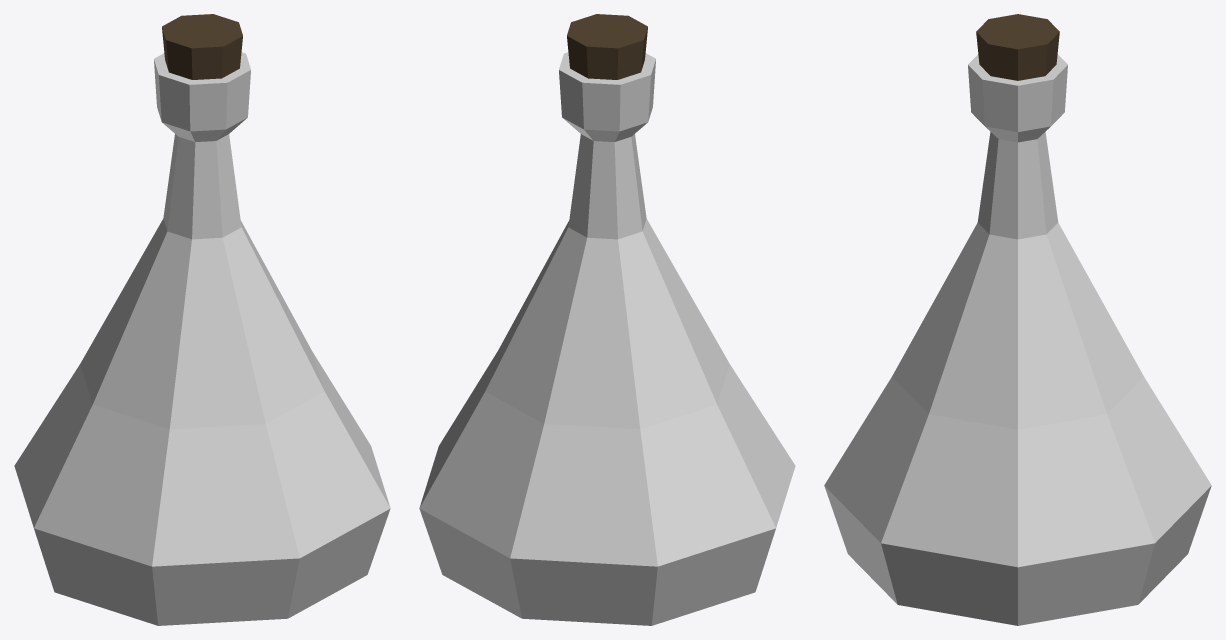
Rendered from potion.fbx.
The picture shows the model from 3 angles, left to right: view 1: azimuth 30°, elevation 25°; view 2: azimuth 150°, elevation 25°; view 3: azimuth 270°, elevation 25°; orthographic projection.
Visible parts, largest first — view 1: glass, cork; view 2: glass, cork; view 3: glass, cork.
Boxes of the visible parts, x1,y1,x2,y2 form: glass: [14, 52, 390, 625]; cork: [162, 14, 242, 79]; glass: [419, 52, 795, 625]; cork: [567, 14, 647, 79]; glass: [824, 54, 1211, 625]; cork: [976, 14, 1059, 80].
Bounding box in the file's own units: 228 × 339 × 228.
